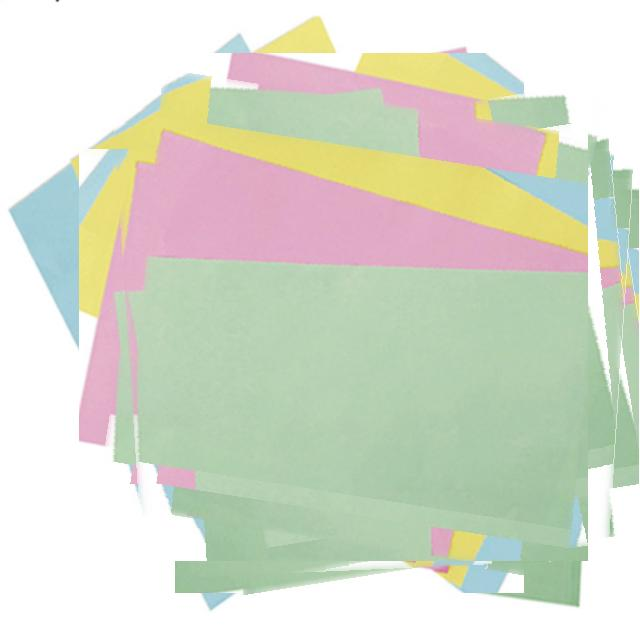biodegradable: (111, 85, 588, 561), (189, 96, 640, 579)
